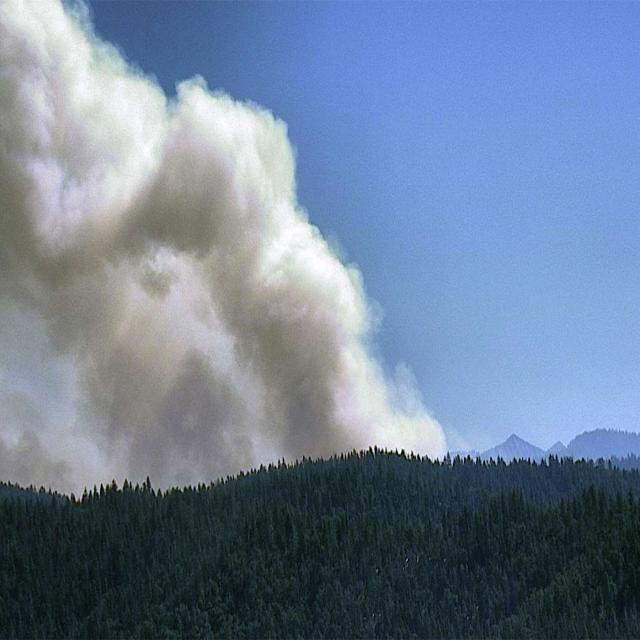Smoke: (0, 0, 450, 498)
